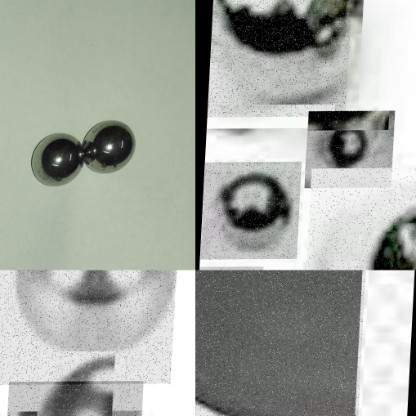ironball: (195, 270, 374, 415), (0, 270, 181, 384), (208, 0, 353, 116), (307, 166, 415, 270), (203, 161, 303, 259), (306, 110, 396, 187), (8, 380, 146, 415), (74, 118, 140, 175), (29, 134, 80, 187)
